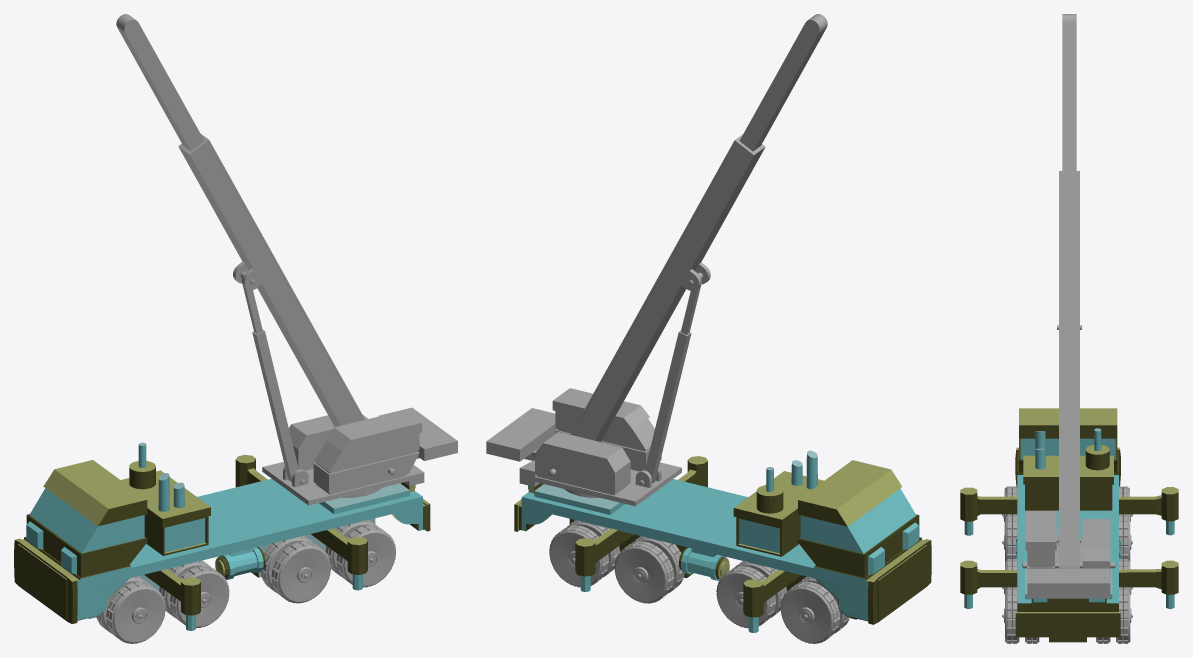
The model's file is crane.fbx.
The picture shows the model from 3 angles, left to right: view 1: azimuth 30°, elevation 25°; view 2: azimuth 150°, elevation 25°; view 3: azimuth 270°, elevation 25°; orthographic projection. The views are drawn at different scales.
Visible parts, largest first — view 1: pCylinder44, pCube4, pCube3, pCylinder31, pCube5; view 2: pCylinder44, pCube4, pCube3, pCylinder31, pCube5; view 3: pCylinder44, pCube4, pCube3, pCylinder31.
Boxes of the visible parts, box(x1,y1,x2,y2) form: pCylinder44: box(14, 442, 430, 630); pCube4: box(116, 14, 365, 426); pCube3: box(262, 407, 457, 505); pCylinder31: box(96, 520, 395, 643); pCube5: box(240, 271, 298, 482); pCylinder44: box(514, 450, 931, 632); pCube4: box(570, 14, 827, 441); pCube3: box(486, 388, 681, 506); pCylinder31: box(549, 520, 849, 643); pCube5: box(645, 272, 703, 483); pCylinder44: box(960, 408, 1178, 642); pCube4: box(1059, 14, 1079, 568); pCube3: box(1025, 510, 1110, 598); pCylinder31: box(1003, 486, 1131, 643).
Bounding box in the file's own units: 24.23 × 35.06 × 12.97.
